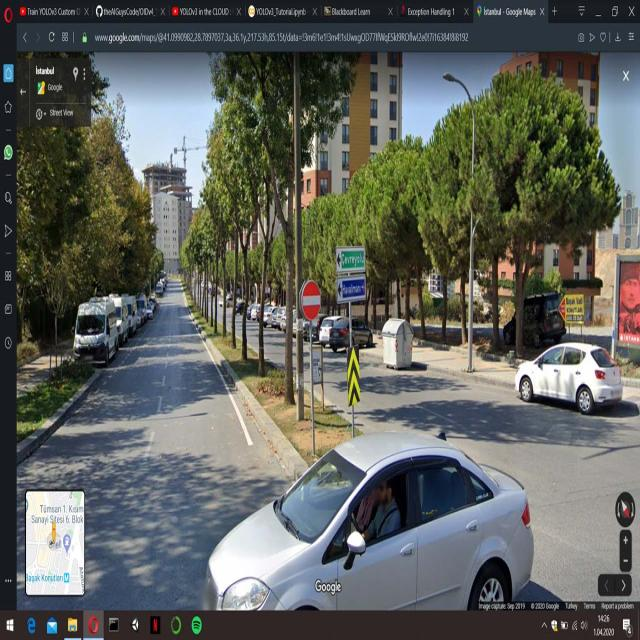girisyok: (300, 281, 324, 323)
